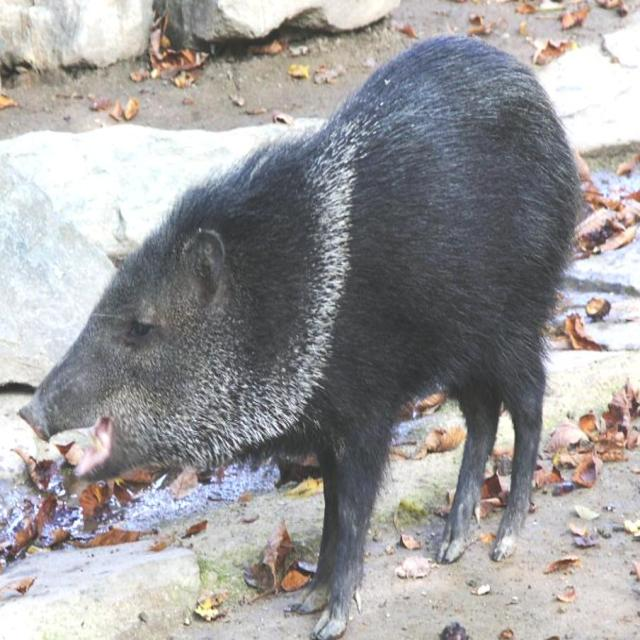pig: (21, 37, 580, 638)
